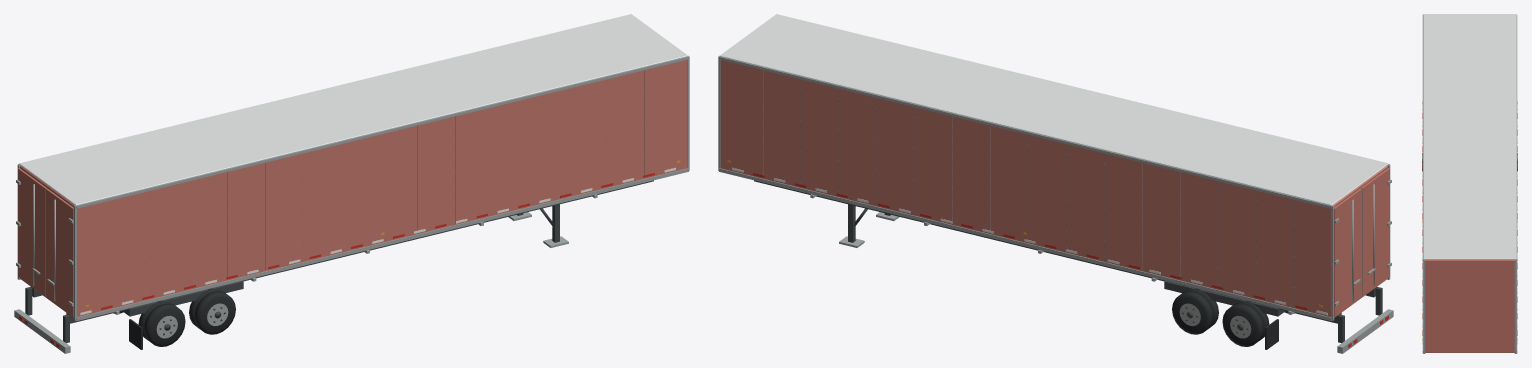
The model's file is SM_MPR3_Trailer_Coral.fbx.
3 renders of one model, left to right at view 1: azimuth 30°, elevation 25°; view 2: azimuth 150°, elevation 25°; view 3: azimuth 270°, elevation 25°, orthographic. The views are drawn at different scales.
Parts seen in each view (by area): view 1: SM_MPR3_Trailer_Coral; view 2: SM_MPR3_Trailer_Coral; view 3: SM_MPR3_Trailer_Coral.
Boxes of the visible parts, x1,y1,x2,y2 form: SM_MPR3_Trailer_Coral: (14,14,689,353); SM_MPR3_Trailer_Coral: (718,14,1393,353); SM_MPR3_Trailer_Coral: (1422,14,1517,353).
Bounding box in the file's own units: 1639 × 267 × 417.
